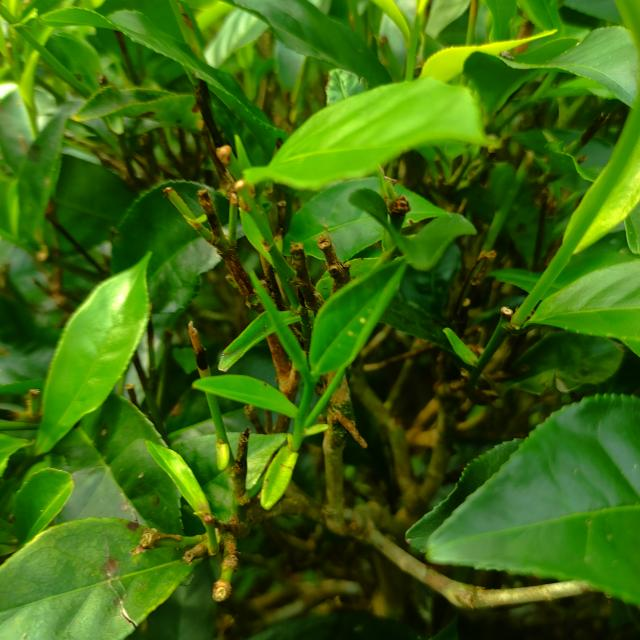unopened_leaf: (244, 264, 317, 400)
